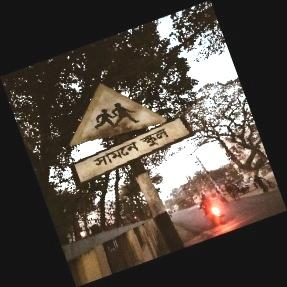School-in-front: (69, 83, 190, 186)
